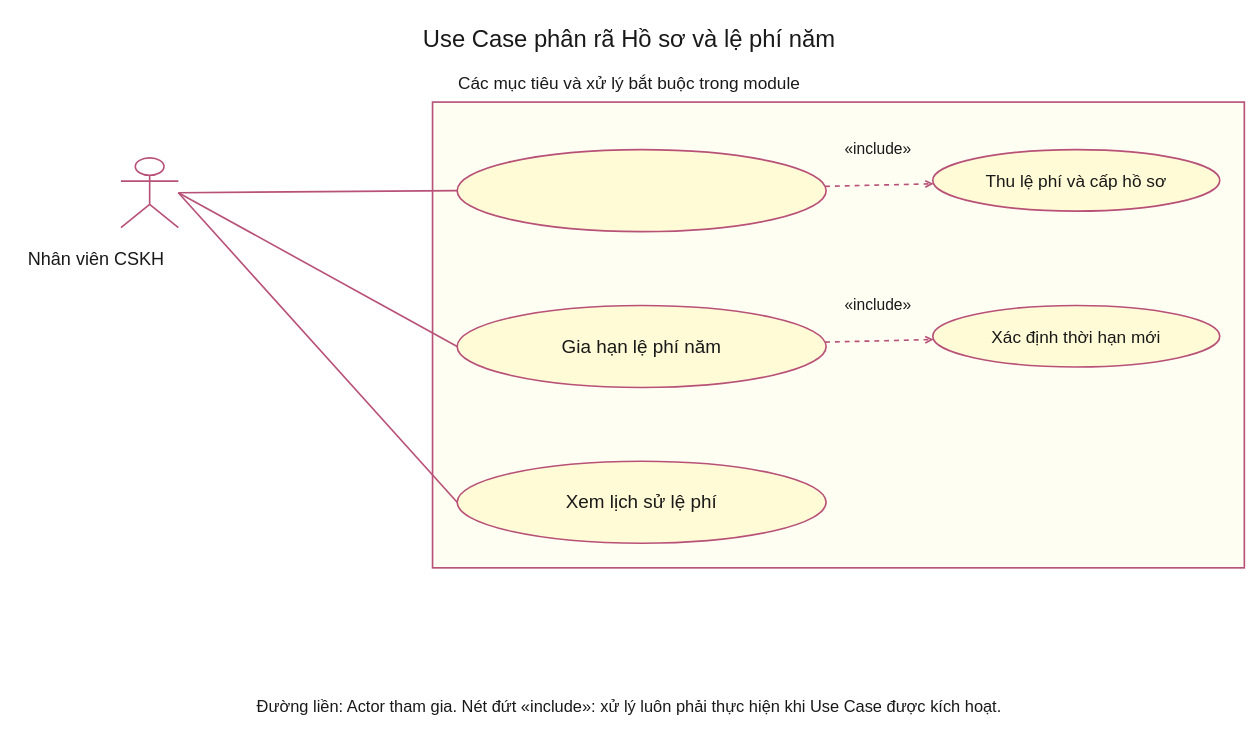
Image size: 1259x737. Some labels were removed from this diagram. Here are the shapes that lost their labels. From the top down, the box of each, then its label:
(456, 148, 827, 232): Đăng ký lần đầu và cấp hồ sơ
(431, 101, 1245, 568): Phạm vi chức năng
